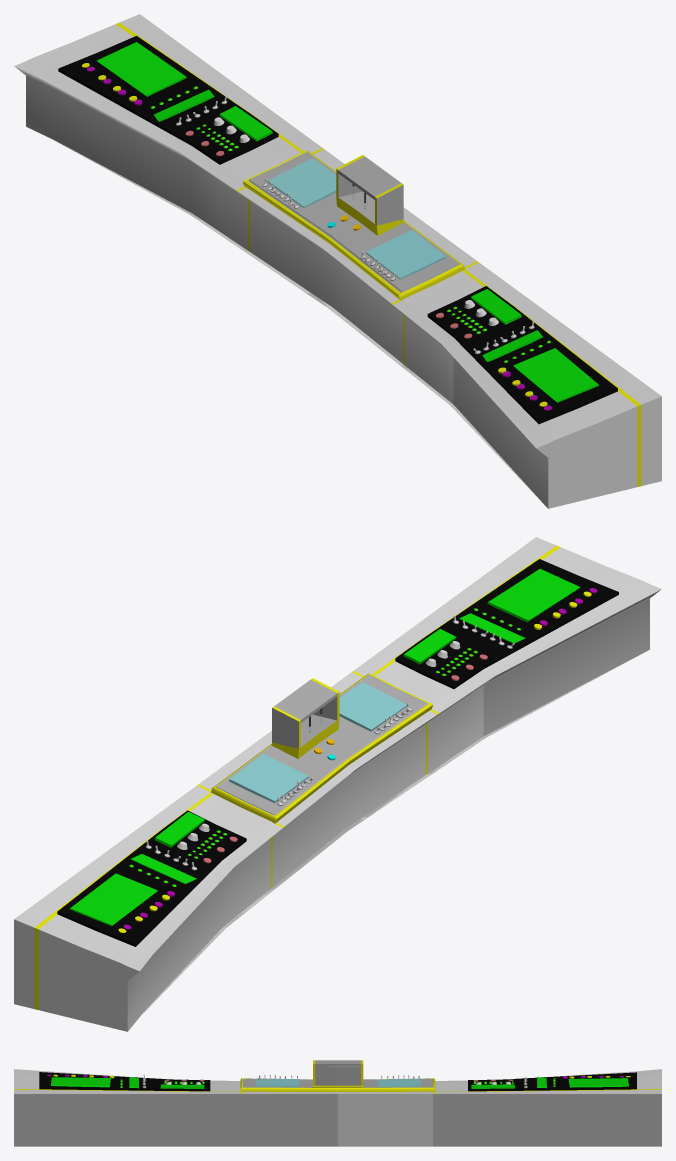
Rendered from Puzzle02.fbx.
The picture shows the model from 3 angles, top to bottom: view 1: azimuth 30°, elevation 25°; view 2: azimuth 150°, elevation 25°; view 3: azimuth 270°, elevation 25°; orthographic projection. The views are drawn at different scales.
Parts seen in each view (by area): view 1: polySurface258; view 2: polySurface258; view 3: polySurface258.
Boxes of the visible parts, x1,y1,x2,y2 form: polySurface258: (14,14,661,508); polySurface258: (14,537,661,1031); polySurface258: (14,1060,661,1146).
Bounding box in the file's own units: 156 × 148 × 1122.
